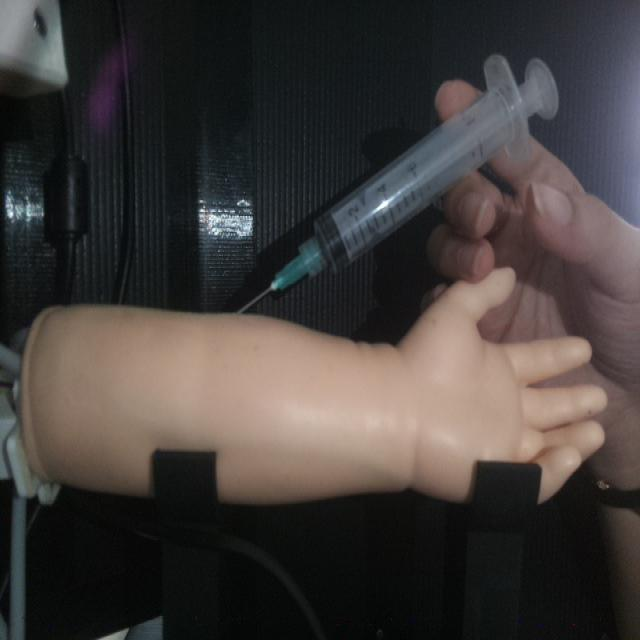Above 30 degrees: (231, 49, 560, 316)
